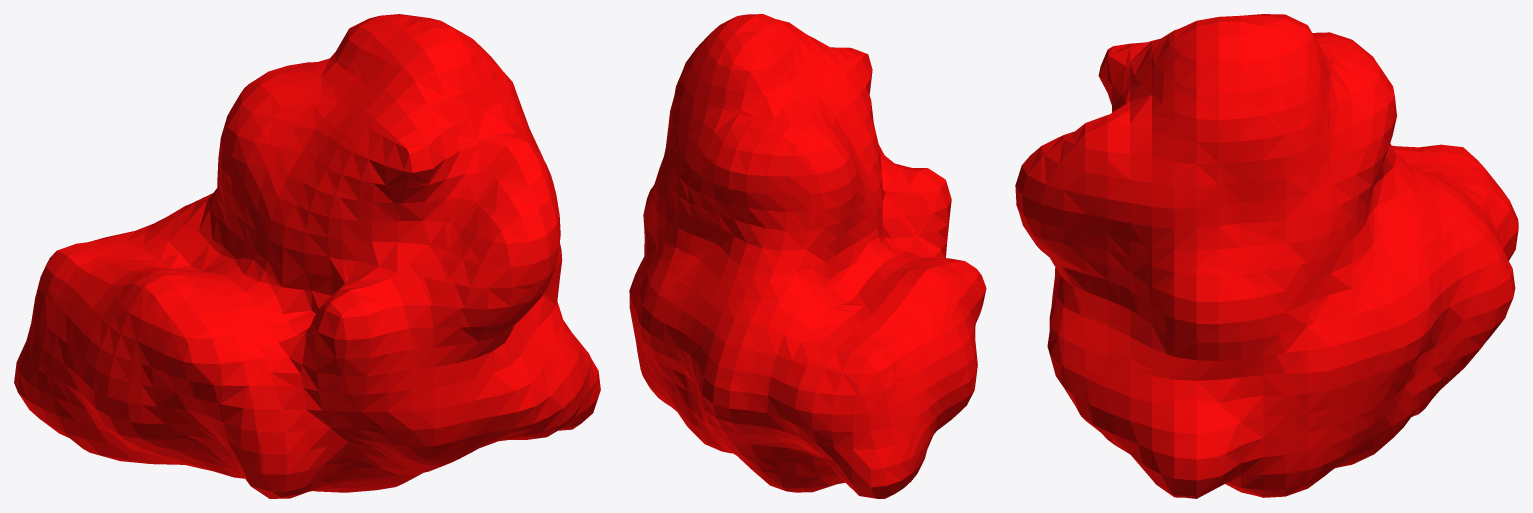
The model's file is ogt_coarse.dae.
3 views of the same model, side by side, from view 1: azimuth 30°, elevation 25°; view 2: azimuth 150°, elevation 25°; view 3: azimuth 270°, elevation 25° (orthographic). The views are drawn at different scales.
Parts seen in each view (by area): view 1: ogt; view 2: ogt; view 3: ogt.
Boxes of the visible parts, x1,y1,x2,y2 form: ogt: (14, 14, 600, 498); ogt: (629, 14, 986, 498); ogt: (1015, 14, 1518, 498).
Bounding box in the file's own units: 46.82 × 45.95 × 45.3.
